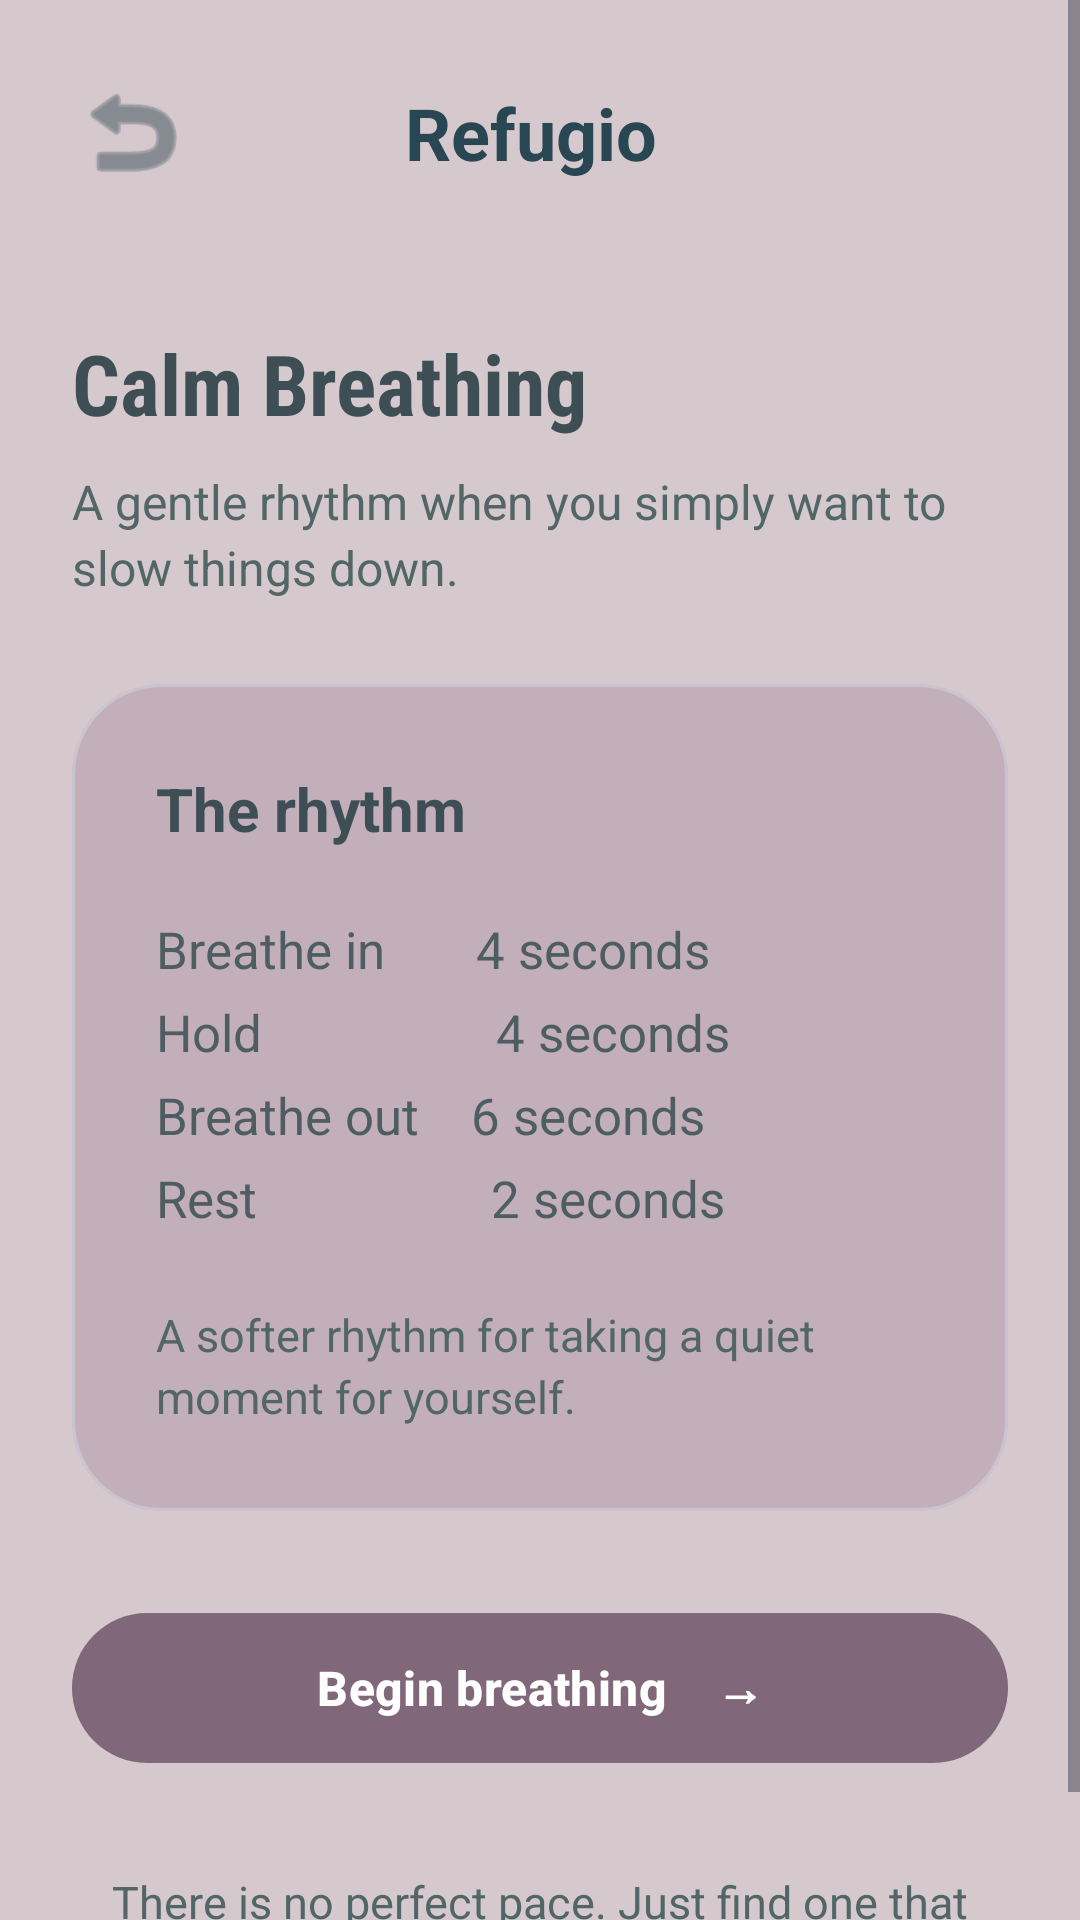

Where icons sit on this 1080 × 1920 app screen, as [left=x1, top=y1, right=x2, bottom=y2]:
Back: [left=91, top=94, right=177, bottom=172]
